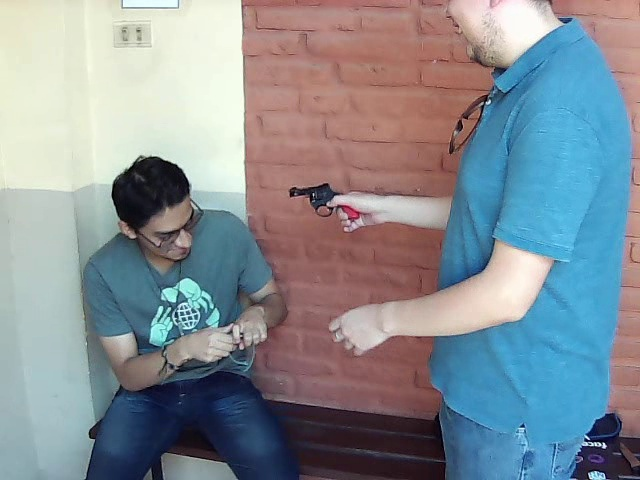pistola: (280, 175, 348, 229)
